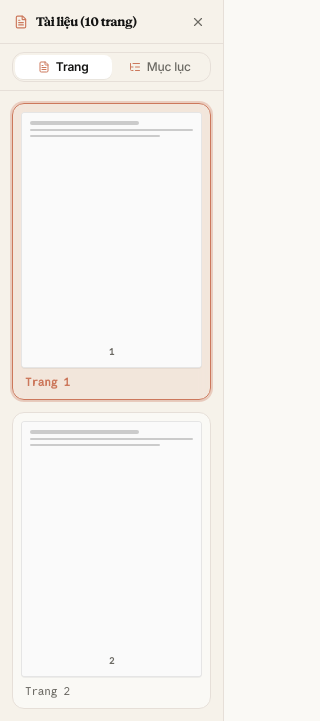
Test case: PdfThumbnailSidebar Dual-Mode (Thumbnails & Outline) › displays fallback message when PDF has no embedded outline
The image size is (320, 721).
Click the tab "Mục lục".
click(160, 67)  # box [112,55,208,79]
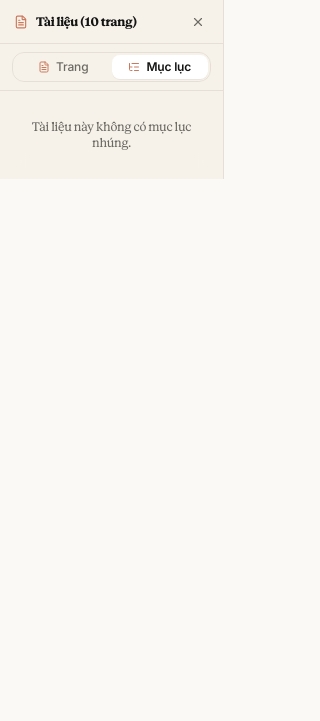
Check: the text "Tài liệu này không có mục lục nhúng." is shown, box [32,119,191,150]
